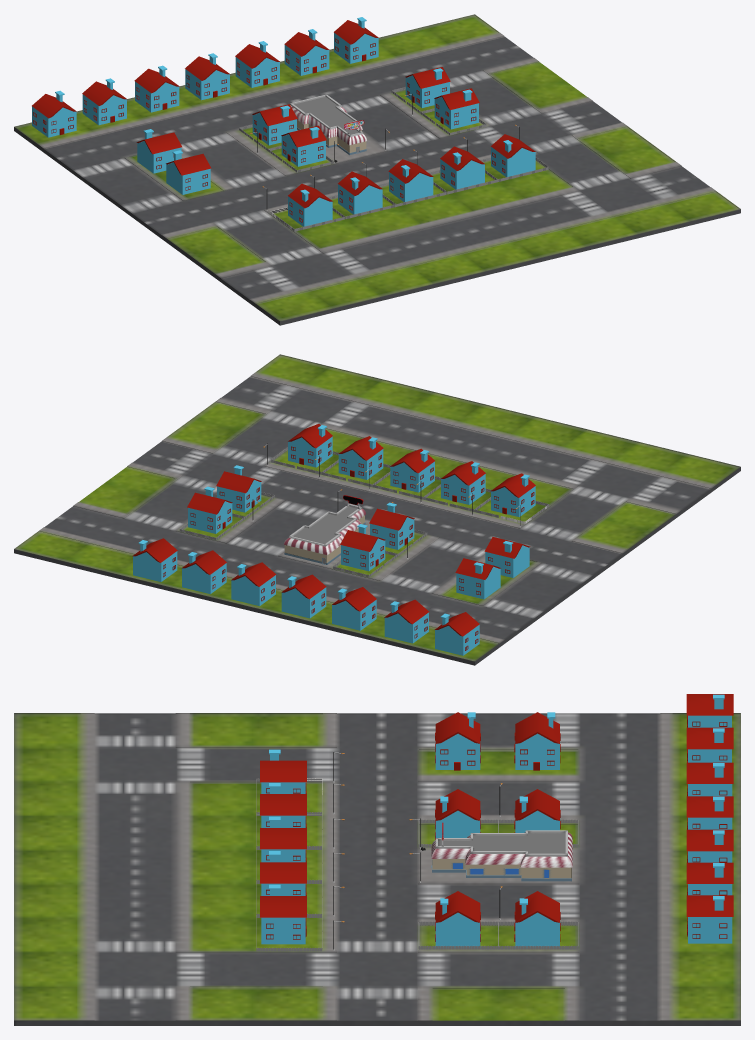
File: MapaHappyToyShop.fbx
3 renders of one model, top to bottom at view 1: azimuth 30°, elevation 25°; view 2: azimuth 150°, elevation 25°; view 3: azimuth 270°, elevation 25°, orthographic. The views are drawn at different scales.
Visible parts, largest first — view 1: Vecindario, Shop, Box368, Box364, Box366, Box365, Box369, Box363, Box367, Box362, Box357, Box359 (+8 smaller); view 2: Vecindario, Shop, Box365, Box363, Box367, Box364, Box366, Box369, Box368, Box358, Box360, Box344 (+8 smaller); view 3: Vecindario, Shop, Box361, Box362, Box345, Box358, Box357, Box369, Box359, Box360, Box363, Box366 (+8 smaller).
Part boxes in pixels (x1,y1,x2,y2): Vecindario: (14, 14, 740, 325); Shop: (290, 94, 367, 155); Box368: (284, 29, 329, 75); Box364: (32, 90, 76, 137); Box366: (134, 65, 179, 112); Box365: (185, 53, 229, 100); Box369: (334, 17, 378, 63); Box363: (82, 78, 126, 125); Box367: (235, 41, 279, 87); Box362: (166, 150, 211, 194); Box357: (434, 88, 479, 129); Box359: (281, 125, 326, 166); Vecindario: (14, 354, 740, 665); Shop: (283, 504, 365, 564); Box365: (281, 574, 326, 618); Box363: (384, 599, 429, 643); Box367: (231, 562, 275, 606); Box364: (434, 612, 479, 655); Box366: (332, 587, 376, 630); Box369: (132, 538, 177, 581); Box368: (182, 550, 226, 594); Box358: (187, 486, 232, 533); Box360: (340, 524, 385, 571); Box344: (338, 436, 383, 479); Vecindario: (14, 713, 740, 1025); Shop: (431, 830, 572, 881); Box361: (514, 712, 560, 770); Box362: (435, 712, 480, 770); Box345: (260, 884, 306, 944); Box358: (514, 891, 560, 947); Box357: (435, 891, 480, 947); Box369: (686, 895, 733, 943); Box359: (435, 789, 480, 839); Box360: (514, 789, 560, 832); Box363: (686, 727, 733, 762); Box366: (686, 762, 733, 796).
Size of the model in its own units: 38000 by 2747 by 38000.
